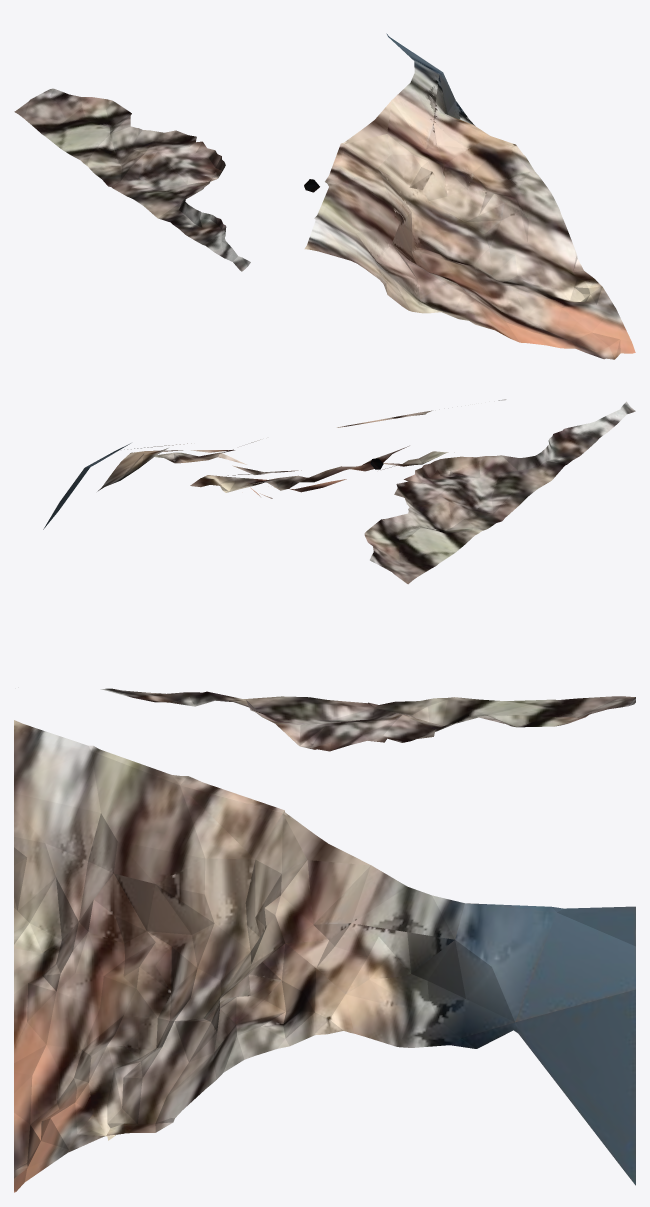
3 views of the same model, one above another, from view 1: azimuth 30°, elevation 25°; view 2: azimuth 150°, elevation 25°; view 3: azimuth 270°, elevation 25° (orthographic). The views are drawn at different scales.
Bounding box in the file's own units: 1.67 × 0.7561 × 1.67.
2 materials, 2 textured.
